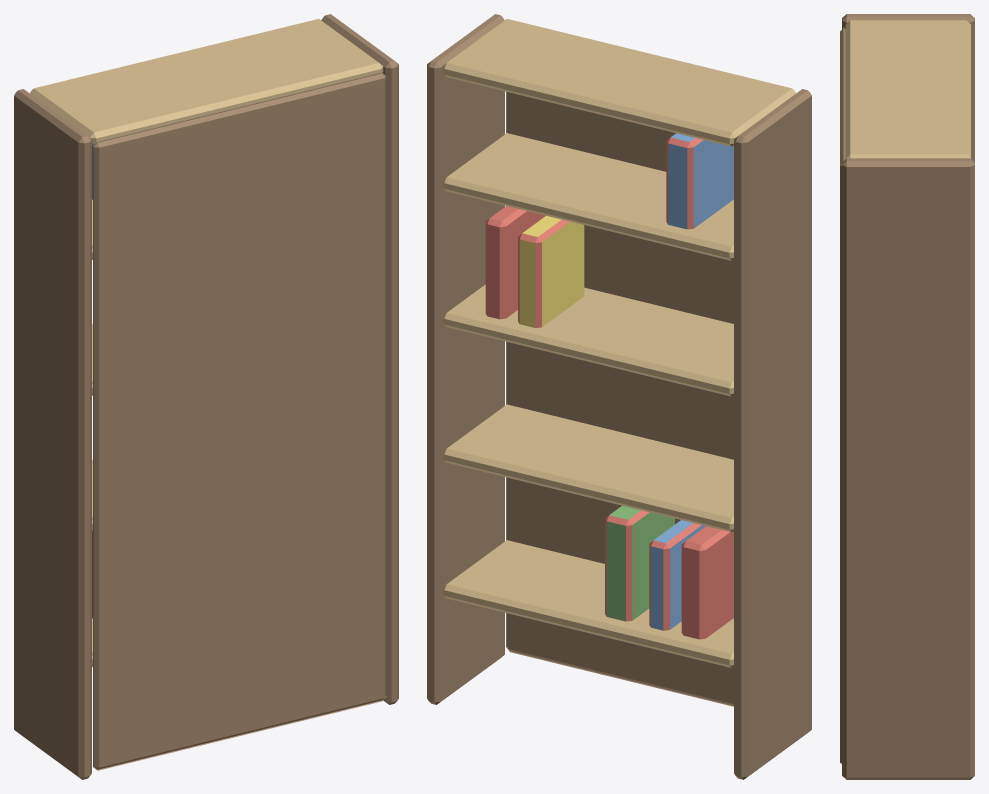
3 renders of one model, left to right at view 1: azimuth 30°, elevation 25°; view 2: azimuth 150°, elevation 25°; view 3: azimuth 270°, elevation 25°, orthographic. The views are drawn at different scales.
Parts seen in each view (by area): view 1: 背板, 侧板.001, 层板; view 2: 侧板.001, 层板, 背板, 书本; view 3: 侧板.001, 层板, 背板.
Part boxes in pixels (bbox=[...]): 背板: bbox=[93, 72, 386, 770]; 侧板.001: bbox=[14, 14, 398, 779]; 层板: bbox=[30, 19, 383, 666]; 侧板.001: bbox=[427, 14, 811, 779]; 层板: bbox=[442, 19, 795, 667]; 背板: bbox=[506, 91, 733, 706]; 书本: bbox=[485, 133, 733, 639]; 侧板.001: bbox=[842, 14, 974, 779]; 层板: bbox=[845, 20, 970, 158]; 背板: bbox=[840, 27, 845, 763].
Bounding box in the file's own units: 94 × 180 × 35.5.
